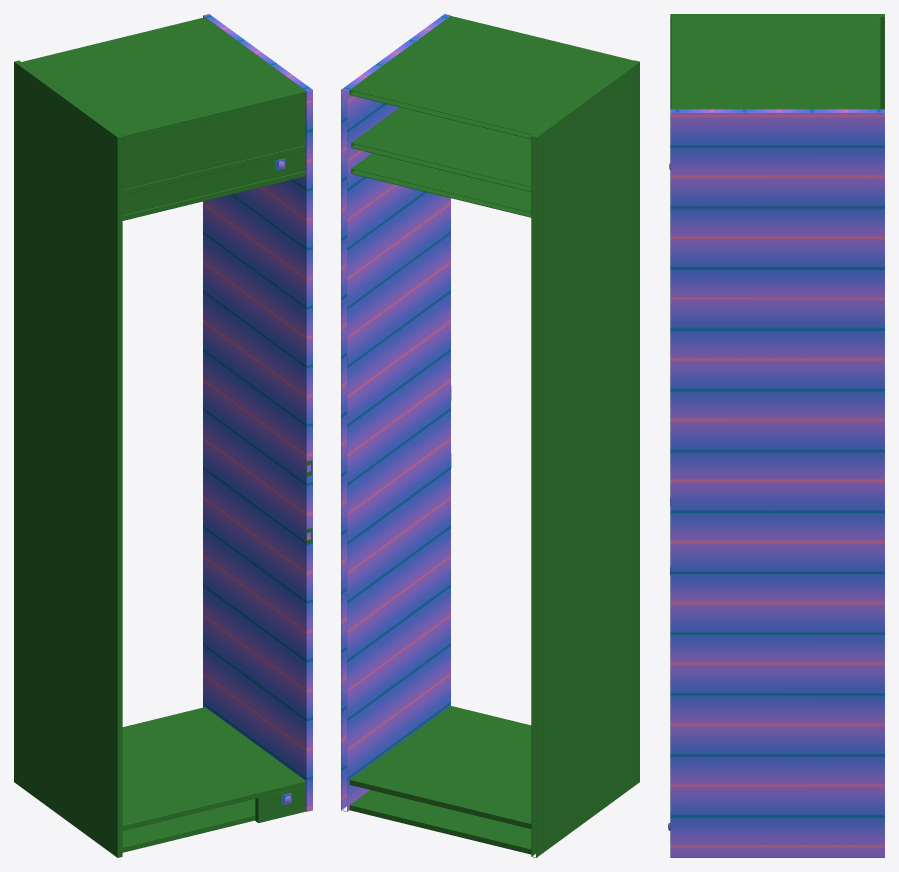
Rendered from SM_Kitchen_03_Fridge.fbx.
3 renders of one model, left to right at view 1: azimuth 30°, elevation 25°; view 2: azimuth 150°, elevation 25°; view 3: azimuth 270°, elevation 25°, orthographic. The views are drawn at different scales.
Visible parts, largest first — view 1: SM_Kitchen_03_Fridge; view 2: SM_Kitchen_03_Fridge; view 3: SM_Kitchen_03_Fridge.
Boxes of the visible parts, box(x1,y1,x2,y2) form: SM_Kitchen_03_Fridge: box(14, 14, 312, 857); SM_Kitchen_03_Fridge: box(341, 14, 639, 857); SM_Kitchen_03_Fridge: box(668, 14, 884, 857).
Size of the model in its own units: 60.39 by 213 by 56.09.
3 materials, 2 textured.
